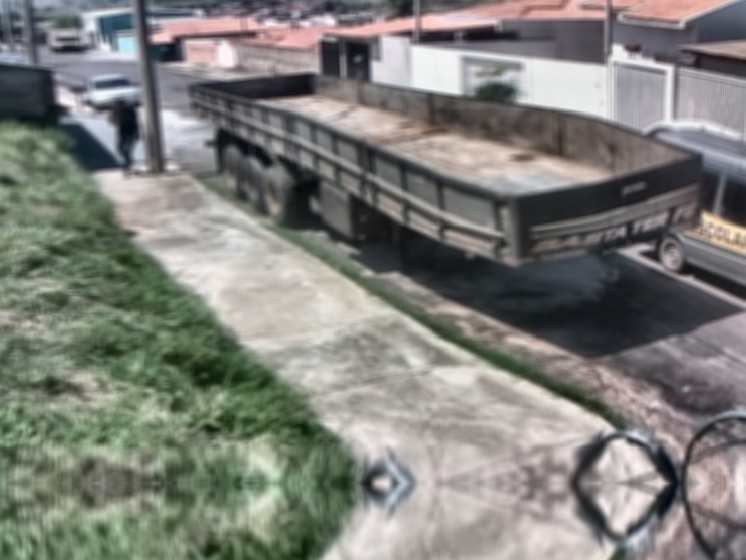person: (106, 98, 146, 180)
